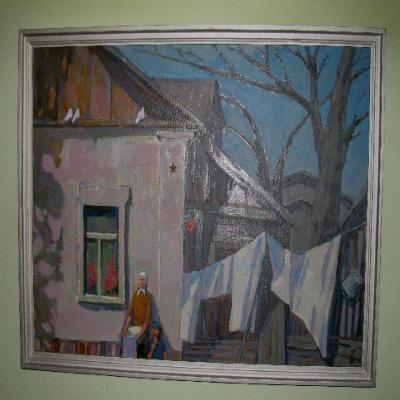painting: (17, 26, 386, 389)
